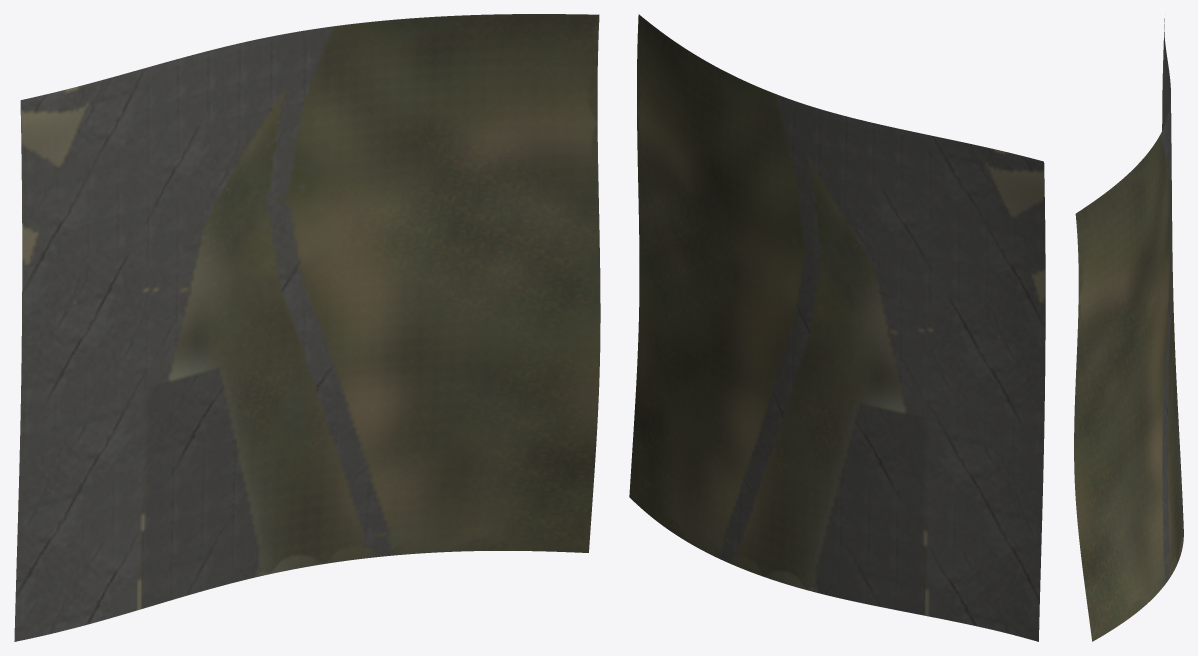
File: ground_core_07_00.obj
The picture shows the model from 3 angles, left to right: view 1: azimuth 30°, elevation 25°; view 2: azimuth 150°, elevation 25°; view 3: azimuth 270°, elevation 25°; orthographic projection. The views are drawn at different scales.
Parts seen in each view (by area): view 1: ground_core_07_00; view 2: ground_core_07_00; view 3: ground_core_07_00.
Part boxes in pixels (x1=…): ground_core_07_00: x1=14, y1=14, x2=600, y2=641; ground_core_07_00: x1=629, y1=14, x2=1045, y2=641; ground_core_07_00: x1=1074, y1=18, x2=1183, y2=641.
Size of the model in its own units: 50 by 50 by 11.63.
1 material, 1 textured.
